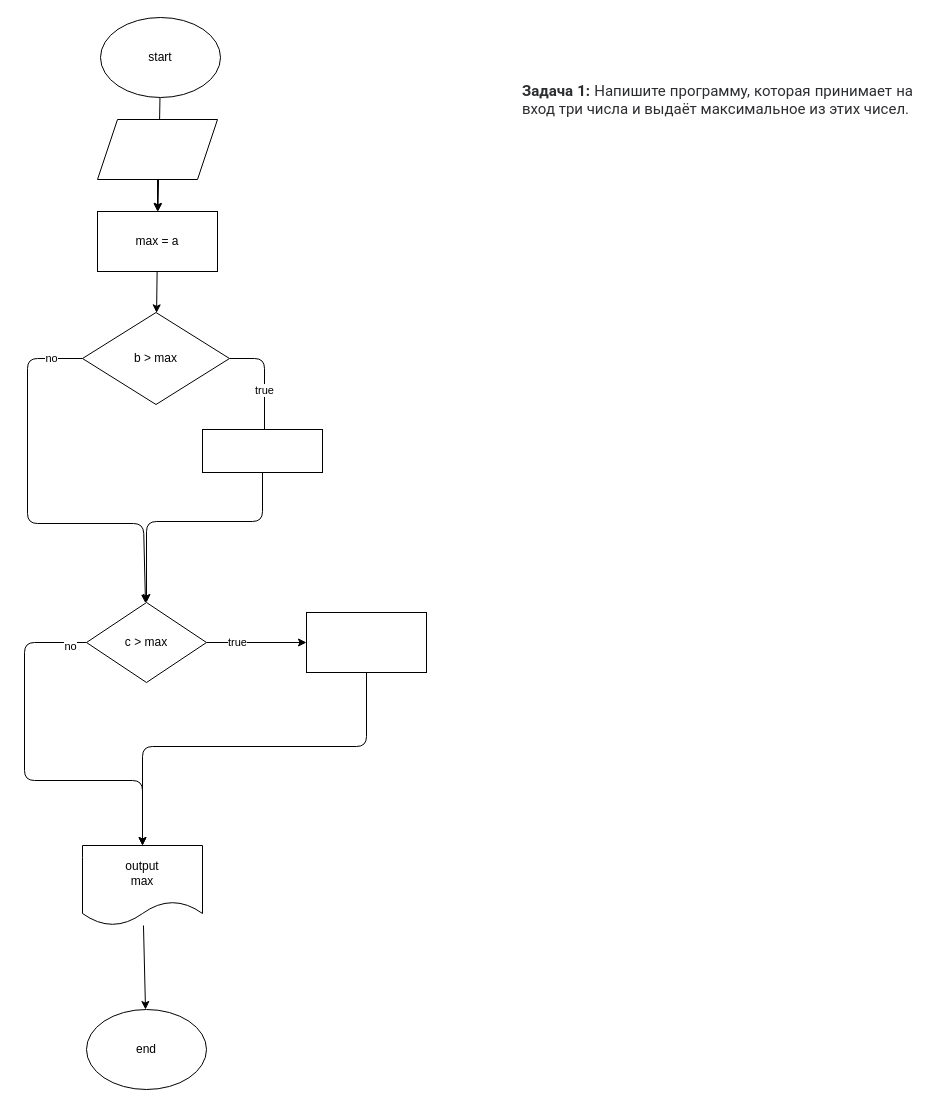
This 932x1107 diagram has some shape labels left out. The shapes that lost their labels are listed below. From the top down, each one's centre as x and y in pixels, then its label:
the point at 157,149: input a b c
the point at 262,450: max = b
the point at 366,642: max = c
